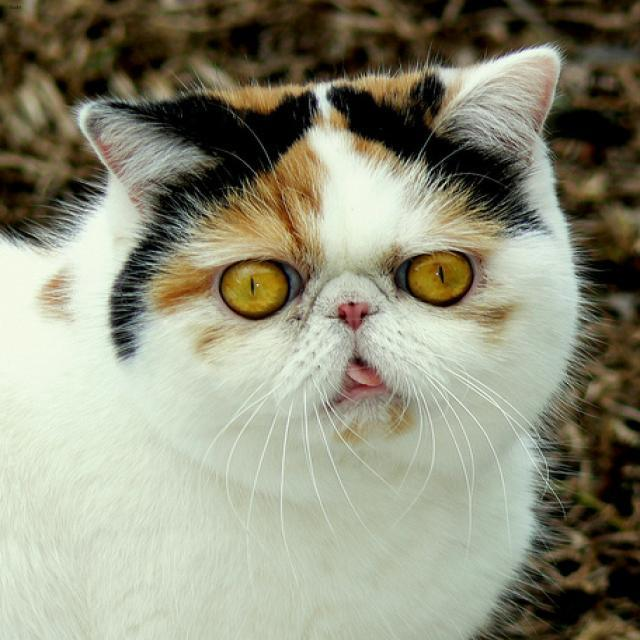Persian: (64, 43, 586, 490)
